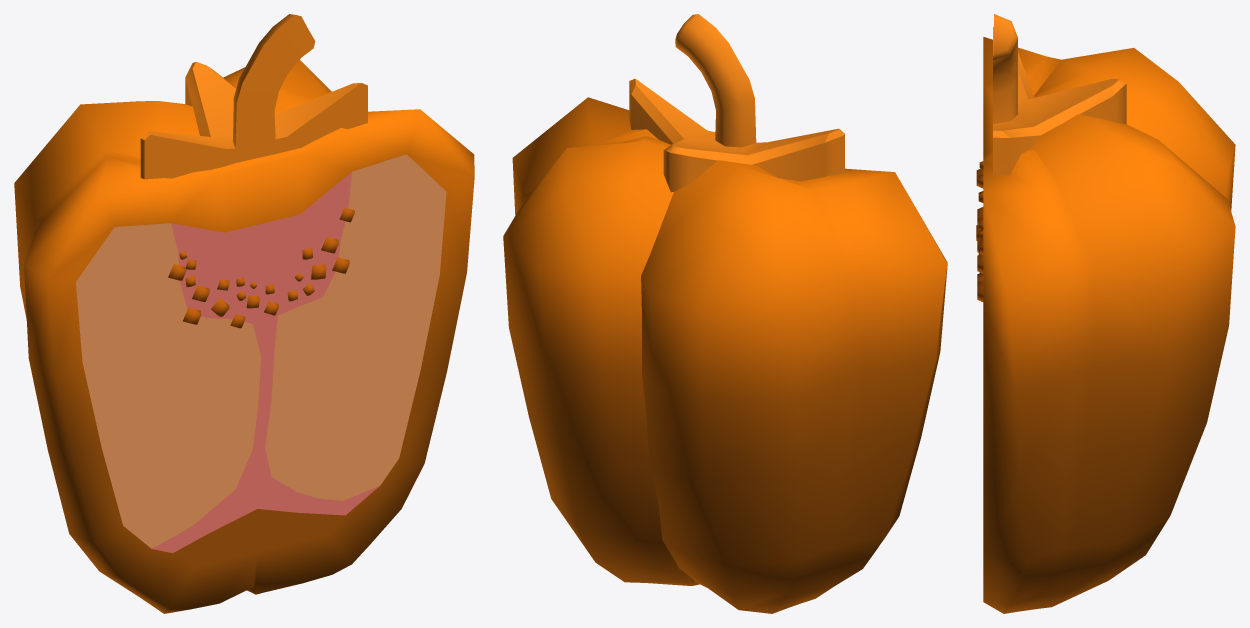
Rendered from Pepper_green_half.fbx.
The picture shows the model from 3 angles, left to right: view 1: azimuth 30°, elevation 25°; view 2: azimuth 150°, elevation 25°; view 3: azimuth 270°, elevation 25°; orthographic projection. The views are drawn at different scales.
Parts seen in each view (by area): view 1: Pepper_green_half; view 2: Pepper_green_half; view 3: Pepper_green_half.
Boxes of the visible parts, <box> form: Pepper_green_half: <box>14,14,474,613</box>; Pepper_green_half: <box>503,14,947,613</box>; Pepper_green_half: <box>976,14,1235,613</box>.
Bounding box in the file's own units: 94.74 × 46.82 × 116.
